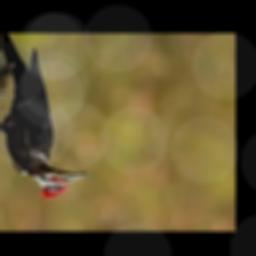Woodpecker: (0, 33, 86, 197)
